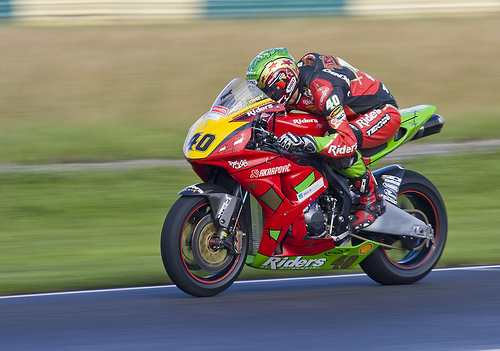helmet: (241, 53, 300, 100)
